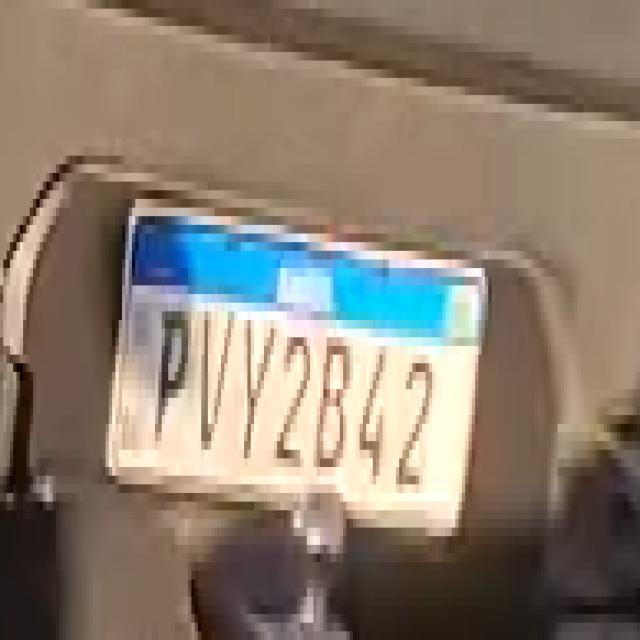Placa_mercosul_carro: (104, 206, 490, 537)
